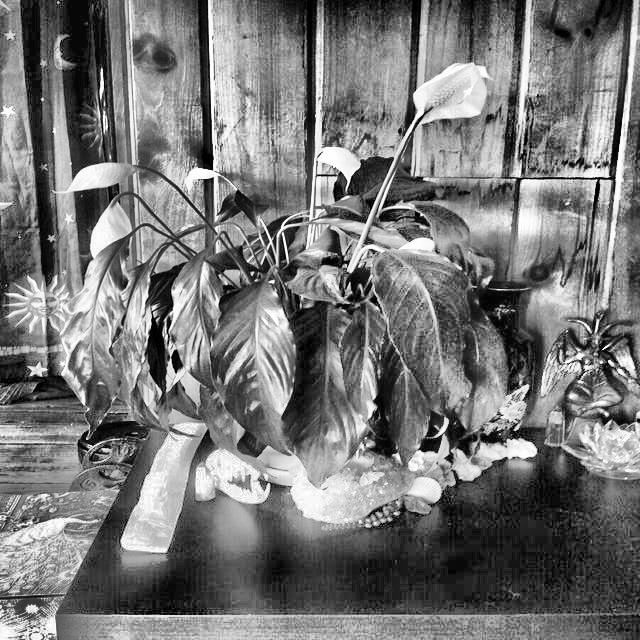plants: (39, 142, 525, 534)
